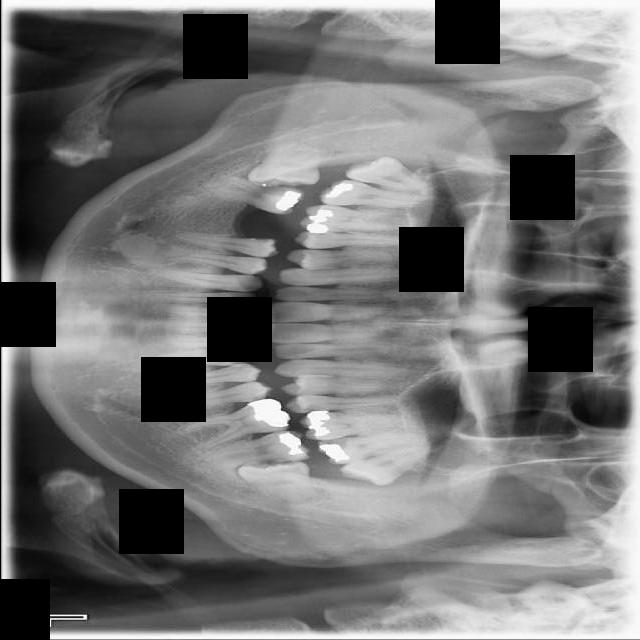3M ESPE Implant: (341, 148, 431, 197)
52: (258, 426, 311, 467), (236, 397, 291, 436), (297, 204, 352, 234), (297, 411, 351, 441), (315, 435, 365, 467), (259, 184, 306, 218), (319, 179, 370, 207)
73: (58, 613, 71, 619)
BioHorizons Implant: (315, 429, 429, 467)
BioLife Implant: (337, 439, 441, 497)
Biomet 3i Implant: (235, 456, 312, 508)
Blue Sky Bio Implant: (201, 427, 312, 473)
Caries: (317, 180, 433, 208)
Implant: (198, 170, 305, 219)
Keystone Dental Implant: (246, 139, 327, 188)
